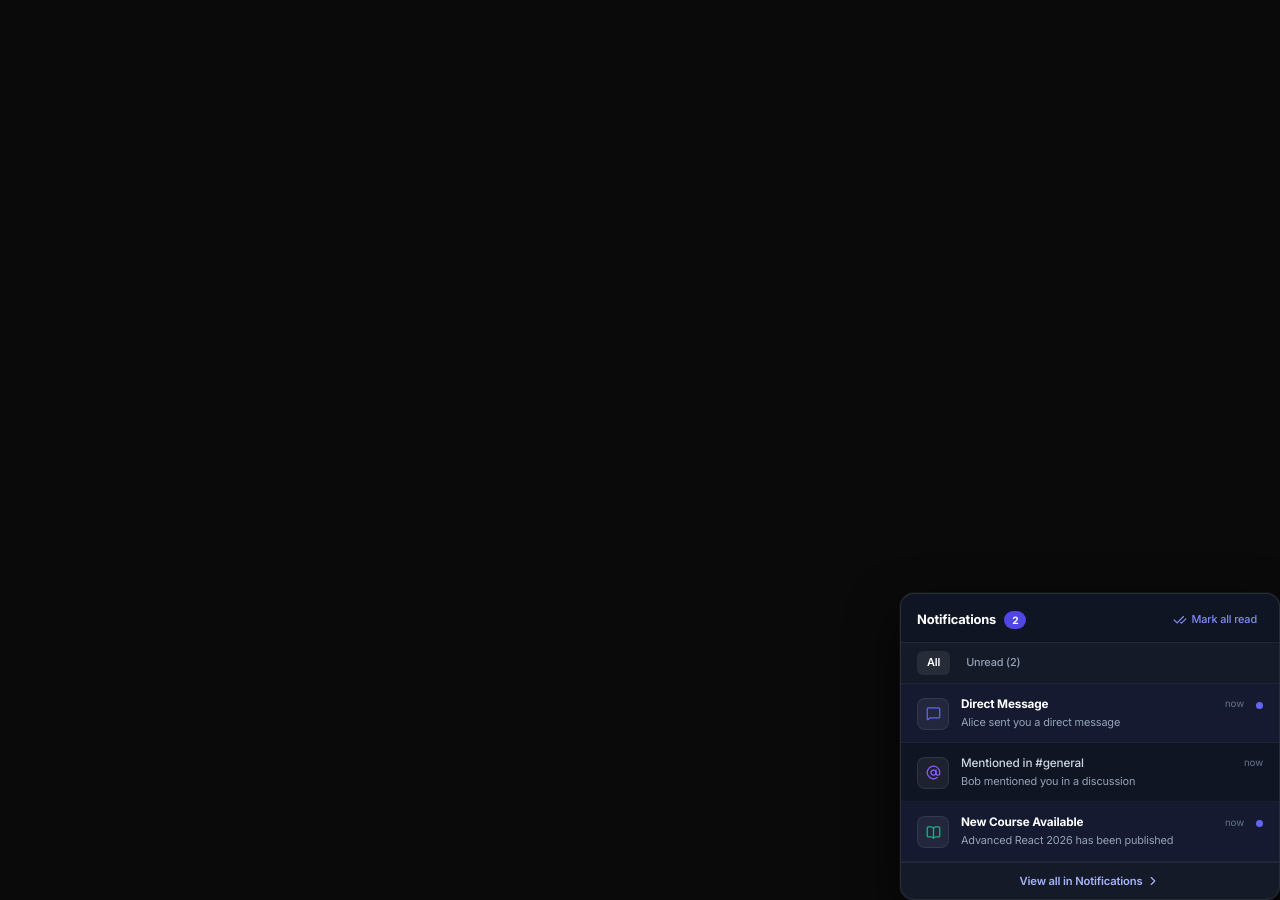
Test: NotificationCenter & Real-Time Popover › filters between All and Unread tabs correctly
(page scrolled)
Click Unread tab
Click the button "Unread (2)". click: (993,663)
box: top-left (956, 651), bottom-right (1030, 675)
(page scrolled)
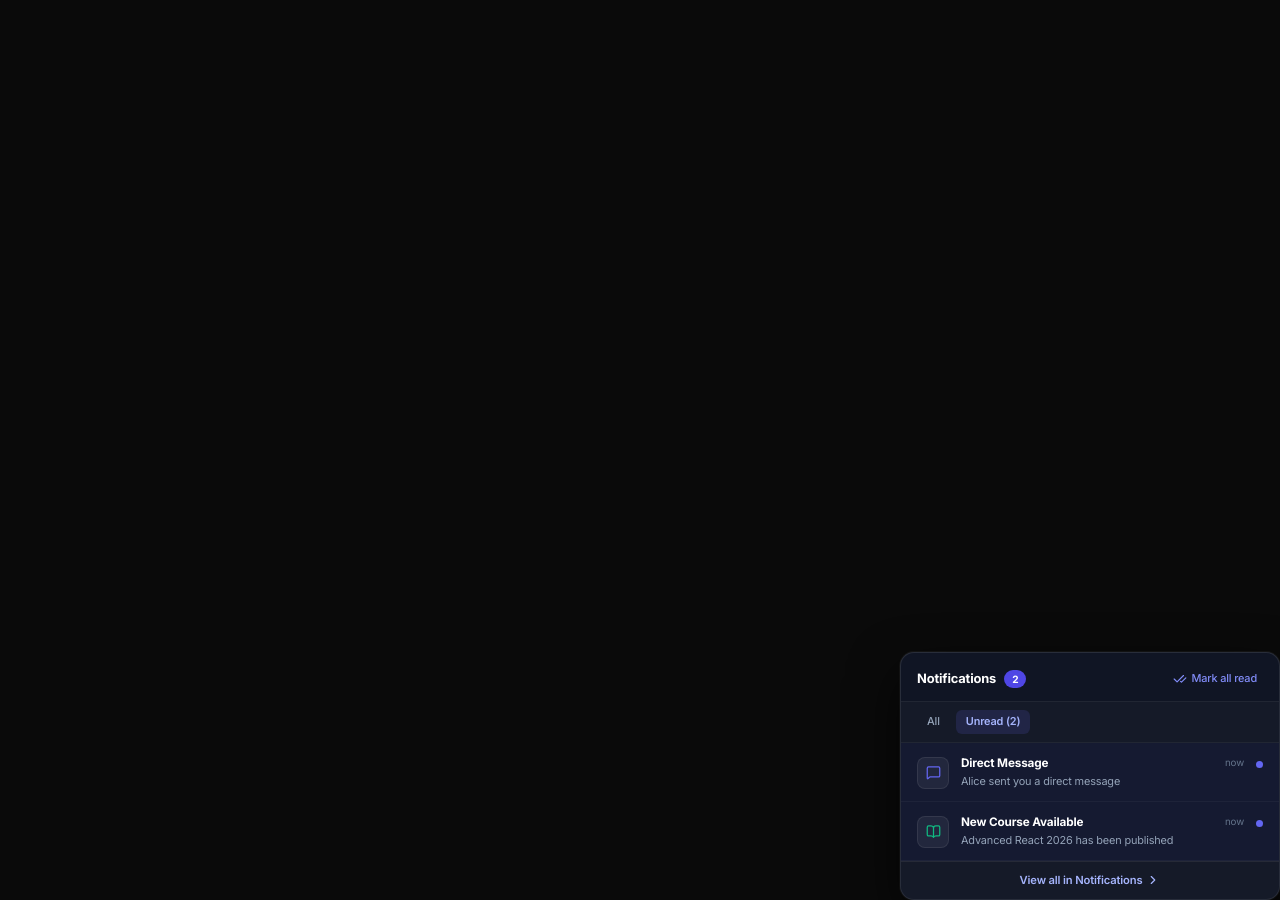
Check: the text "Direct Message" is shown, box top-left (961, 755), bottom-right (1048, 772)
Check: the text "Mentioned in #general" is gone
Click All tab
Click the button "All". click: (933,722)
box: top-left (917, 710), bottom-right (950, 734)
(page scrolled)
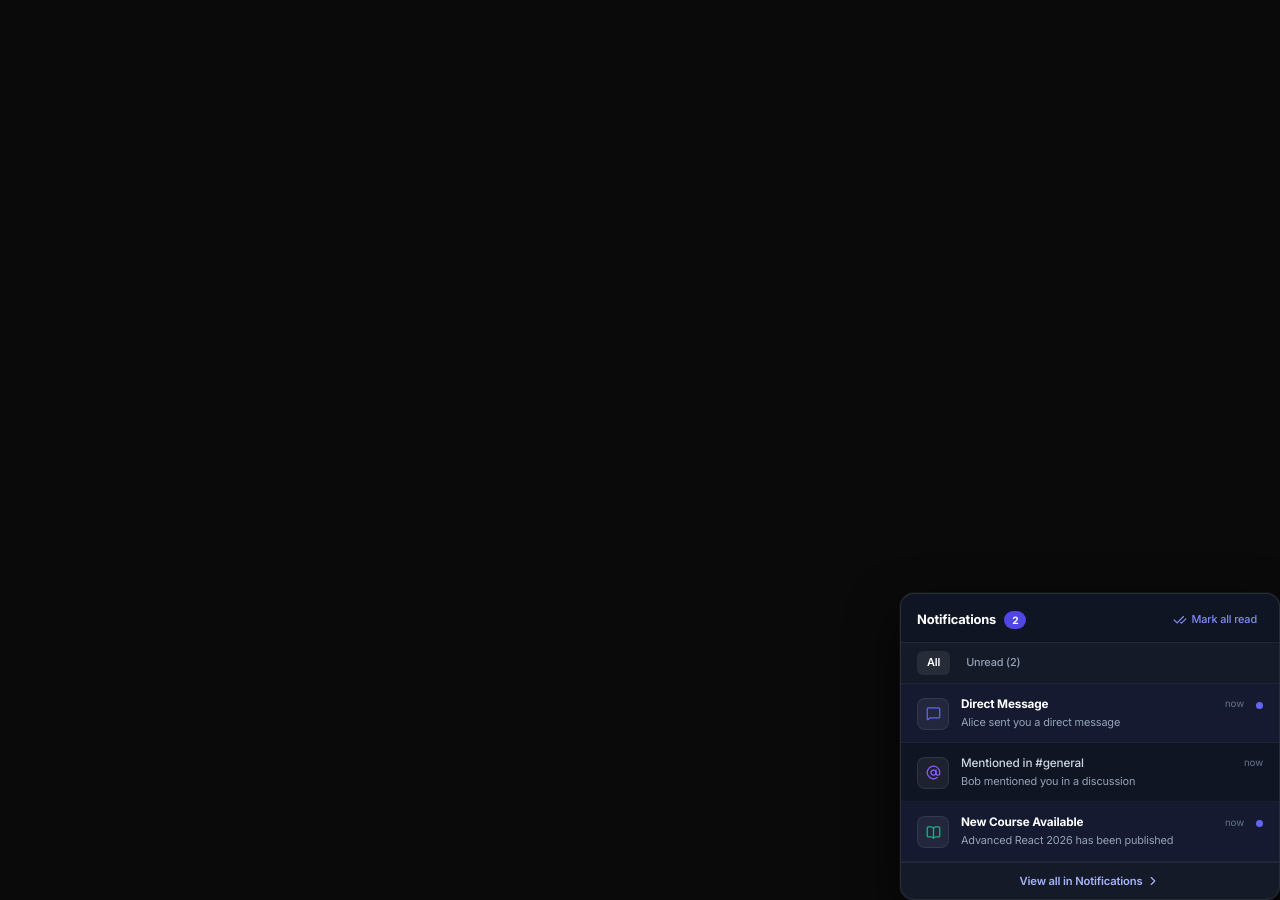
Check: the text "Mentioned in #general" is shown, box top-left (961, 755), bottom-right (1084, 772)
